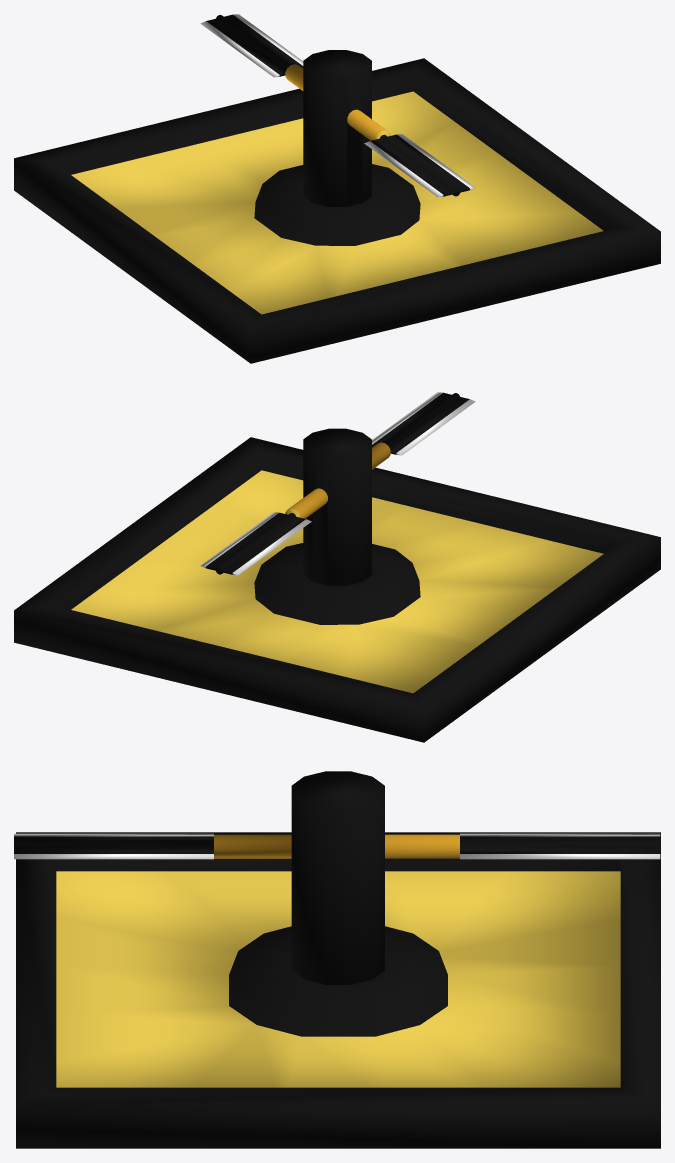
The model's file is CuchillosGiratorios.fbx.
The picture shows the model from 3 angles, top to bottom: view 1: azimuth 30°, elevation 25°; view 2: azimuth 150°, elevation 25°; view 3: azimuth 270°, elevation 25°; orthographic projection. The views are drawn at different scales.
Parts seen in each view (by area): view 1: Box001, Cylinder001; view 2: Box001, Cylinder001; view 3: Box001, Cylinder001.
Part boxes in pixels (x1,y1,x2,y2): Box001: (14,58,660,363); Cylinder001: (200,14,475,206); Box001: (14,437,660,742); Cylinder001: (200,392,475,585); Box001: (16,832,660,1148); Cylinder001: (14,771,660,984).
Size of the model in its own units: 40 by 15.15 by 40.13.
